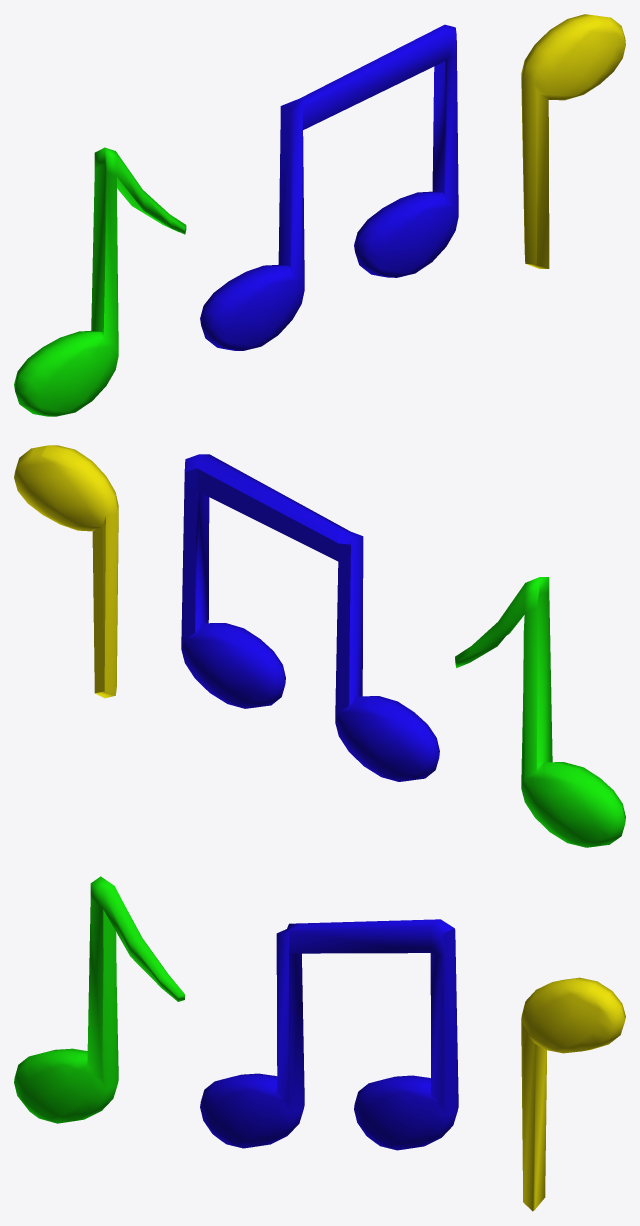
The model's file is music_notes.glb.
The picture shows the model from 3 angles, top to bottom: view 1: azimuth 30°, elevation 25°; view 2: azimuth 150°, elevation 25°; view 3: azimuth 330°, elevation 25°; orthographic projection.
Visible parts, largest first — view 1: Music_Notes; view 2: Music_Notes; view 3: Music_Notes.
Boxes of the visible parts, x1,y1,x2,y2 form: Music_Notes: [14, 14, 625, 416]; Music_Notes: [14, 445, 625, 847]; Music_Notes: [14, 876, 625, 1211].
Size of the model in its own units: 0.4656 by 0.2156 by 0.0363.
